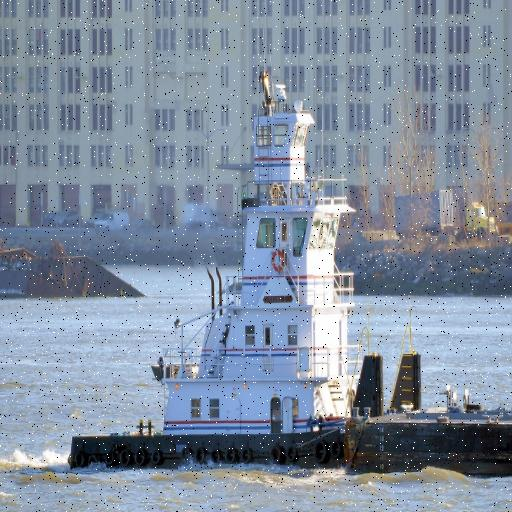tugboat: (64, 76, 429, 480)
